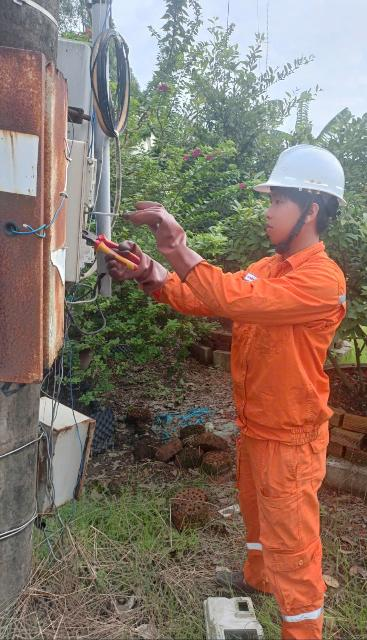gloves: (130, 187, 221, 280), (92, 233, 170, 298)
helmet: (257, 137, 365, 212)
